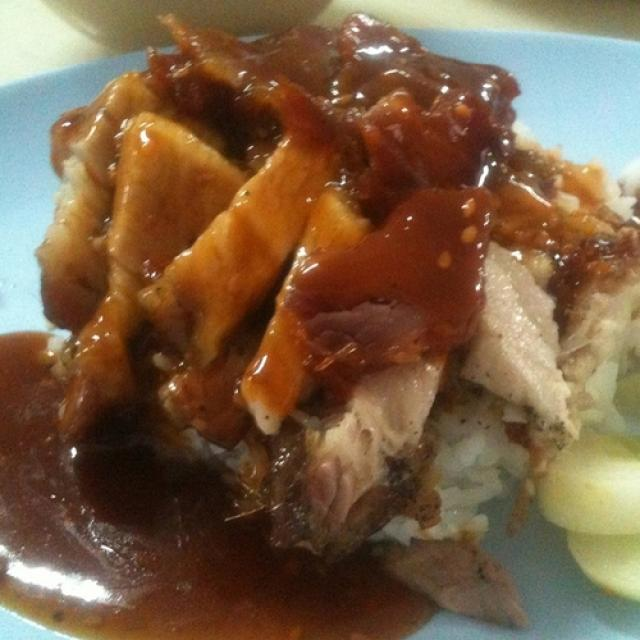猪肉菜式: (32, 23, 599, 586)
